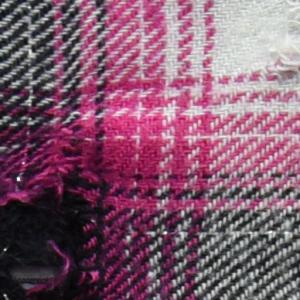Damage: (1, 121, 109, 300), (261, 1, 300, 103)
